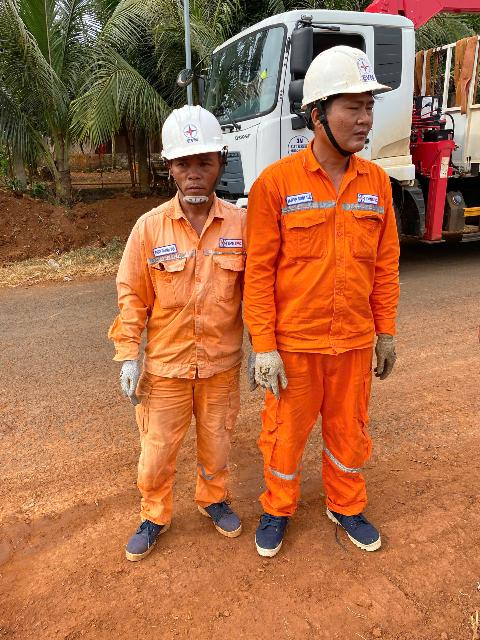gloves: (234, 345, 300, 411), (368, 320, 404, 384), (114, 351, 148, 408)
helmet: (289, 44, 393, 118), (160, 93, 241, 158)
shoes: (99, 502, 181, 573), (320, 493, 389, 565), (183, 478, 238, 554), (248, 499, 290, 566)
